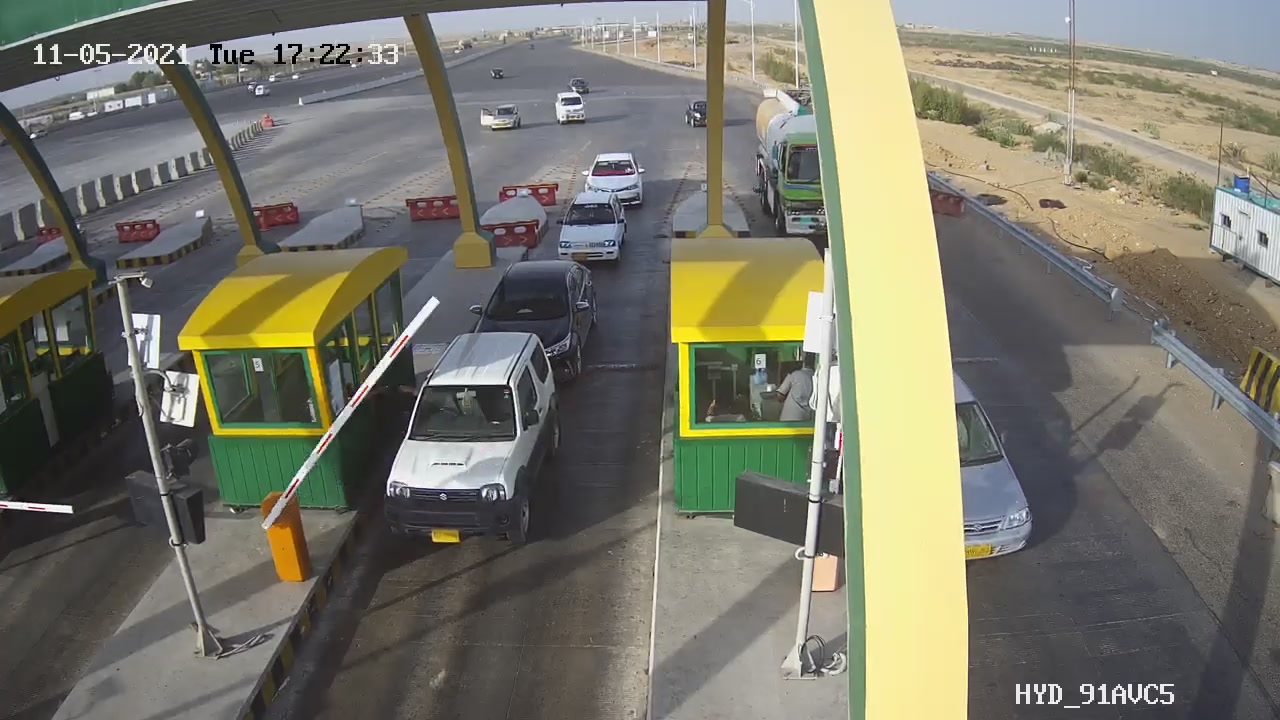F1: (364, 316, 582, 562), (540, 186, 646, 274)
